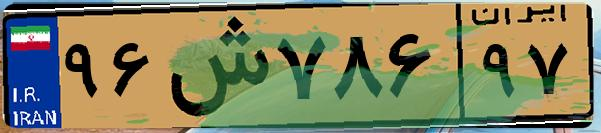6: (385, 28, 445, 110), (110, 28, 158, 98)
7: (270, 28, 330, 110), (525, 38, 570, 115)
8: (330, 28, 385, 110)
9: (57, 26, 110, 100), (475, 38, 525, 113)
ش: (158, 12, 270, 120)
